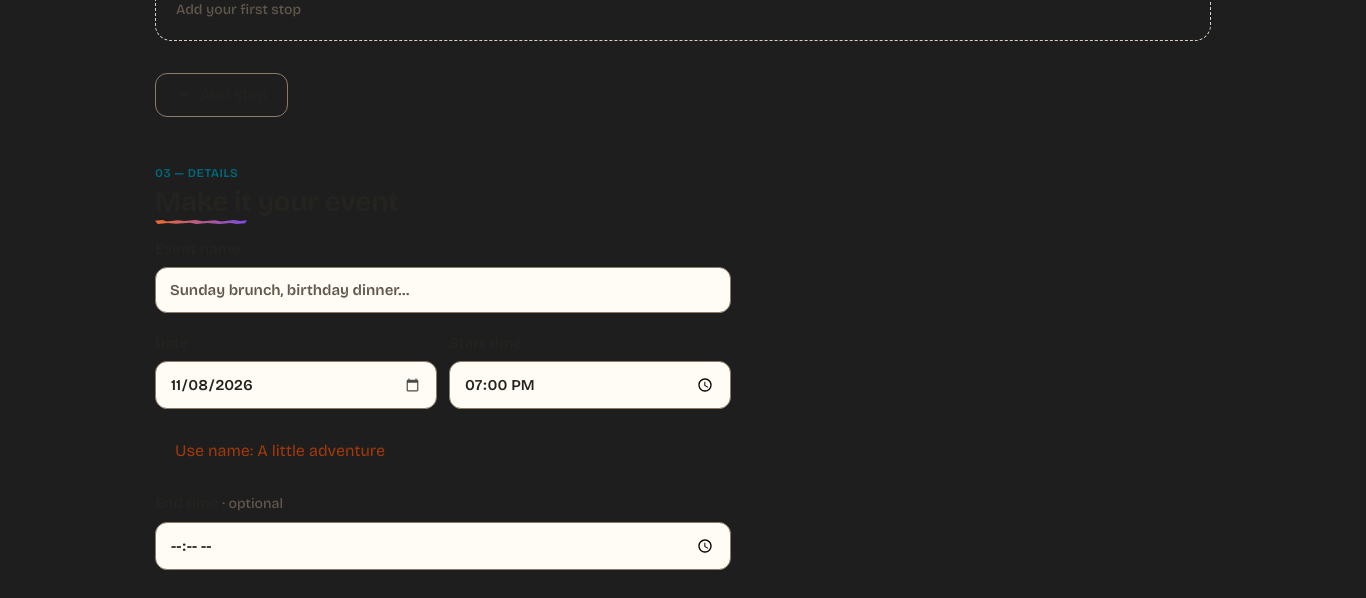
Test: unified planner interactions › does not substitute saved venues when external discovery is unavailable
(page scrolled)
Type "QA night" into the field labelled "Event name" at (443, 290), box [155,267,731,313]
(page scrolled)
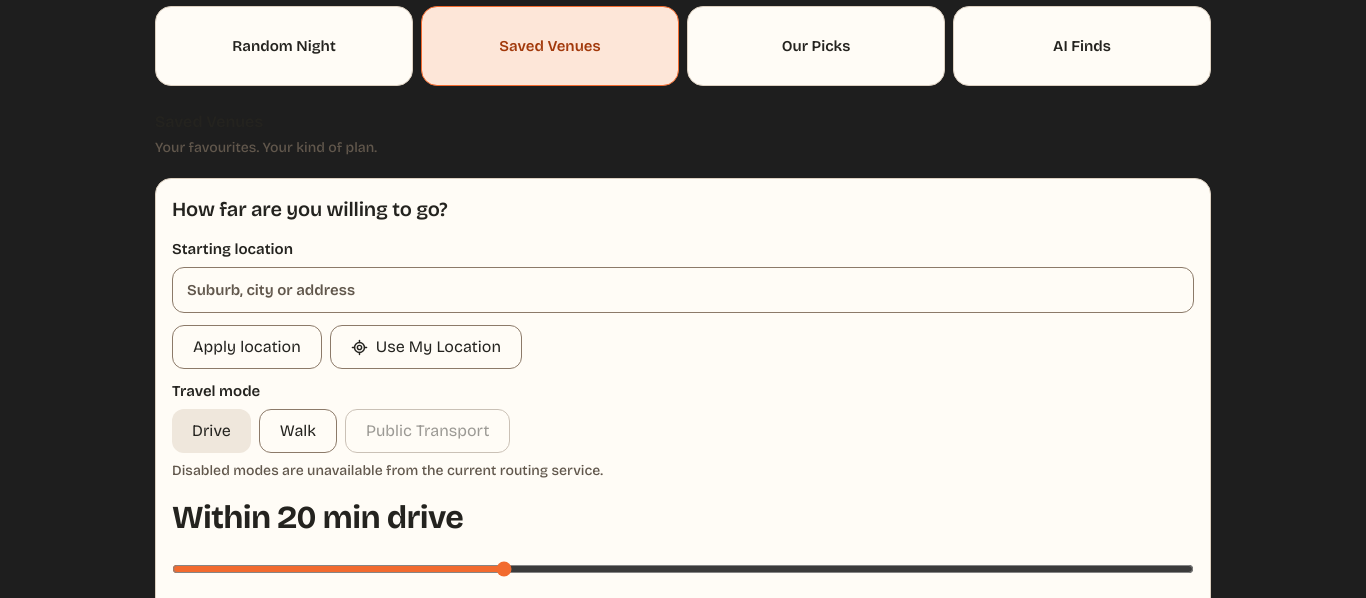
Type "Sydney" into the field labelled "Starting location" at (683, 290), box [172,267,1194,313]
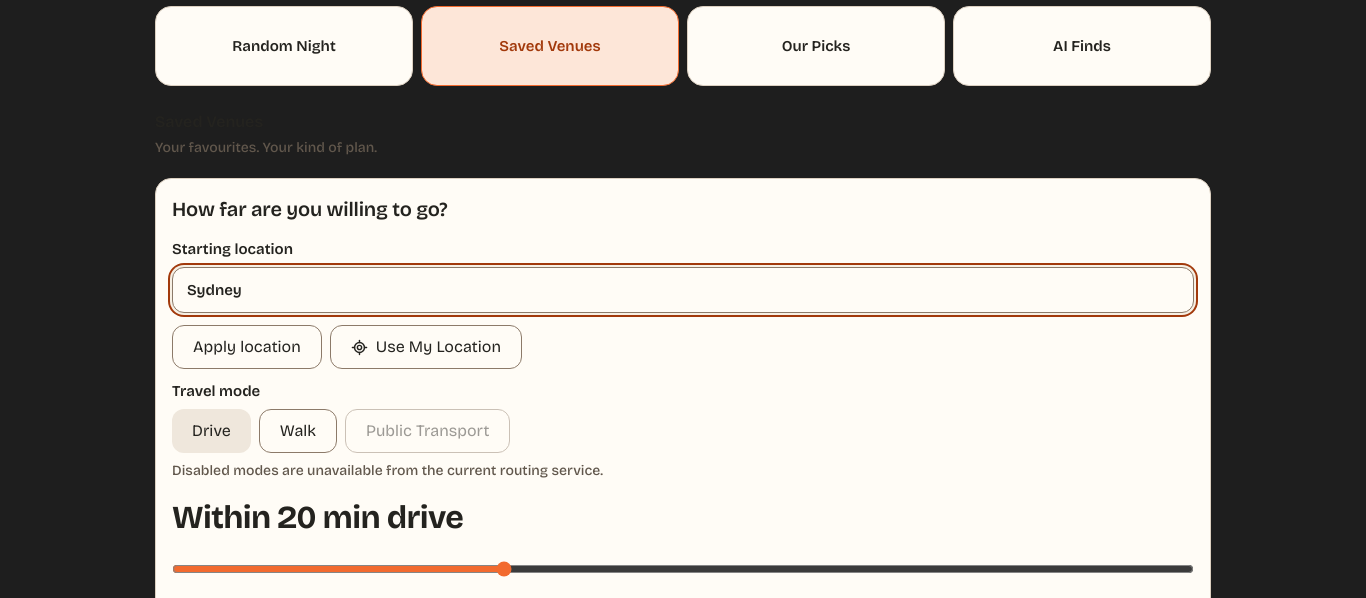
Click the button "Apply location" at (247, 347), box [172,325,322,369]
(page scrolled)
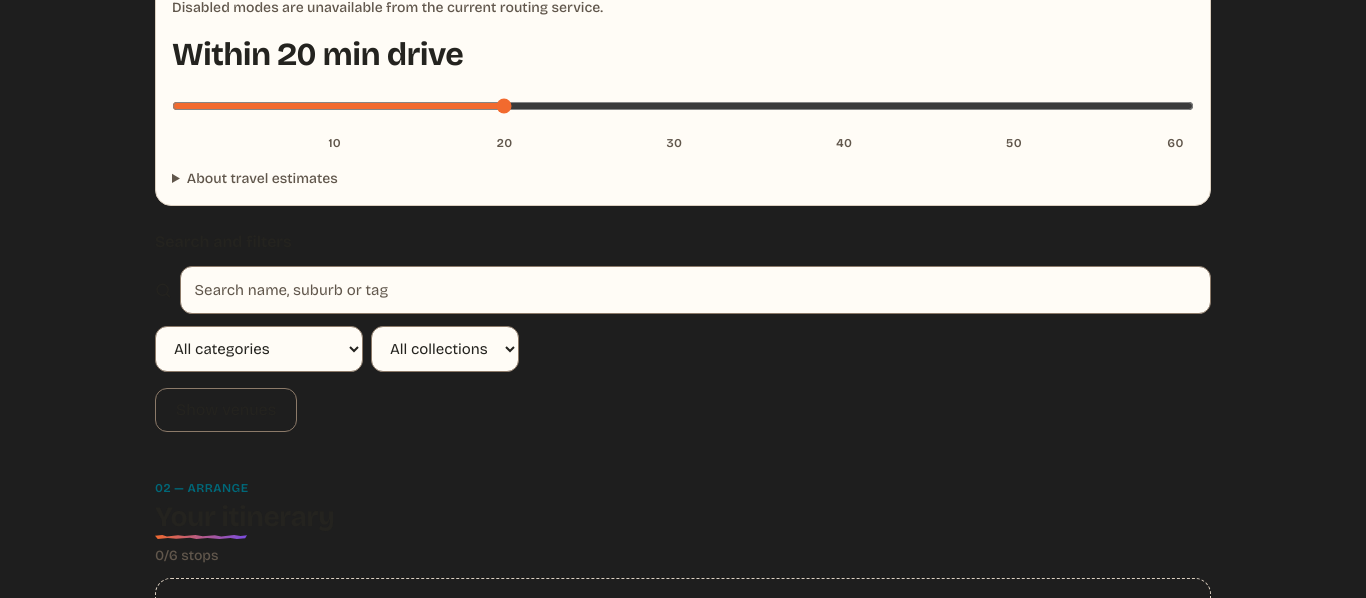
Click the field named "Search venues" at (695, 290), box [180,266,1211,314]
(page scrolled)
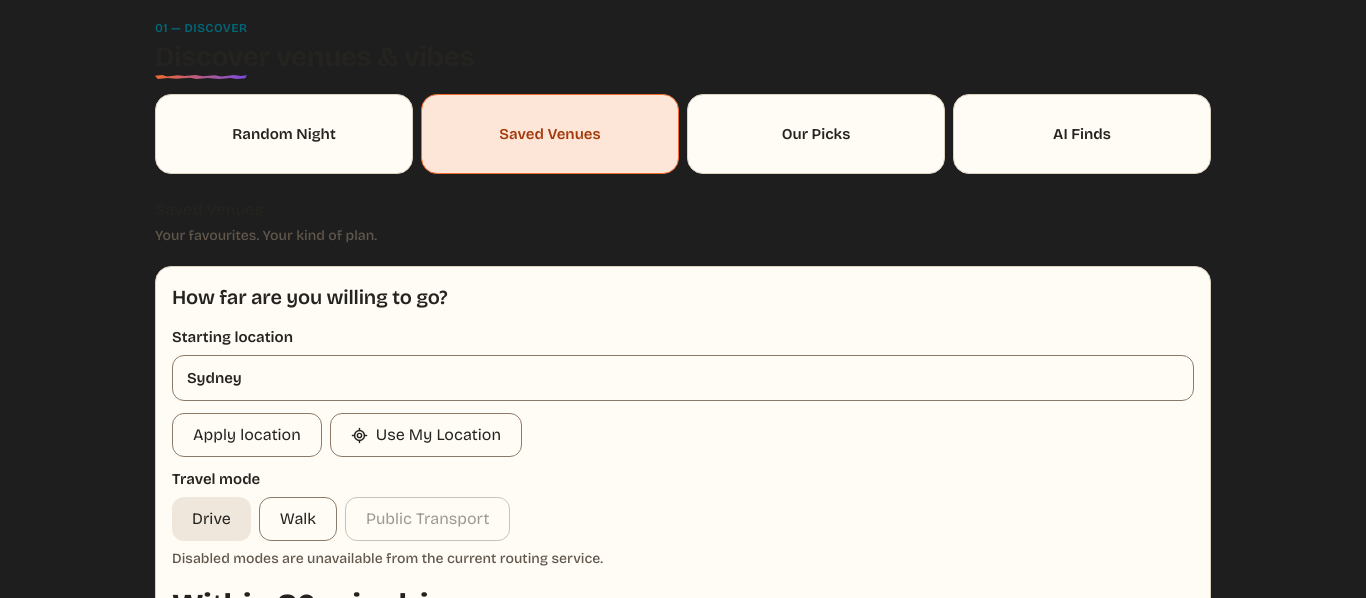
Click the button "AI Finds" at (1082, 134), box [953,94,1211,174]
(page scrolled)
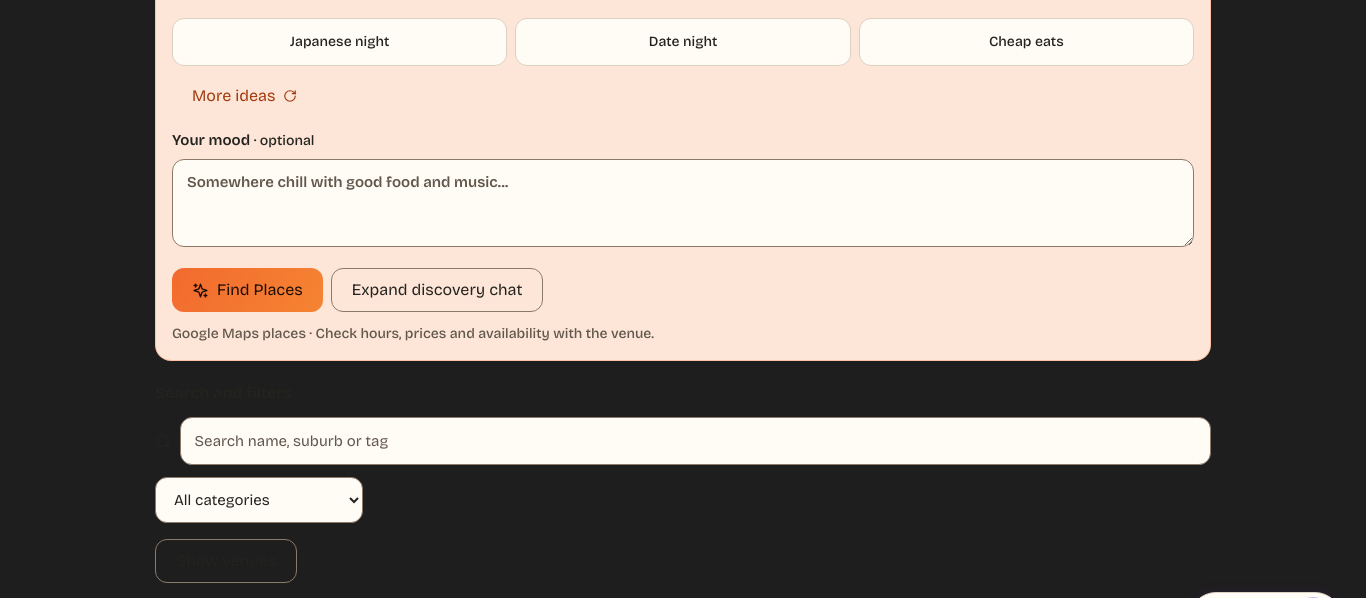
Click the button "Find Places" at (247, 290), box [172,268,323,312]
(page scrolled)
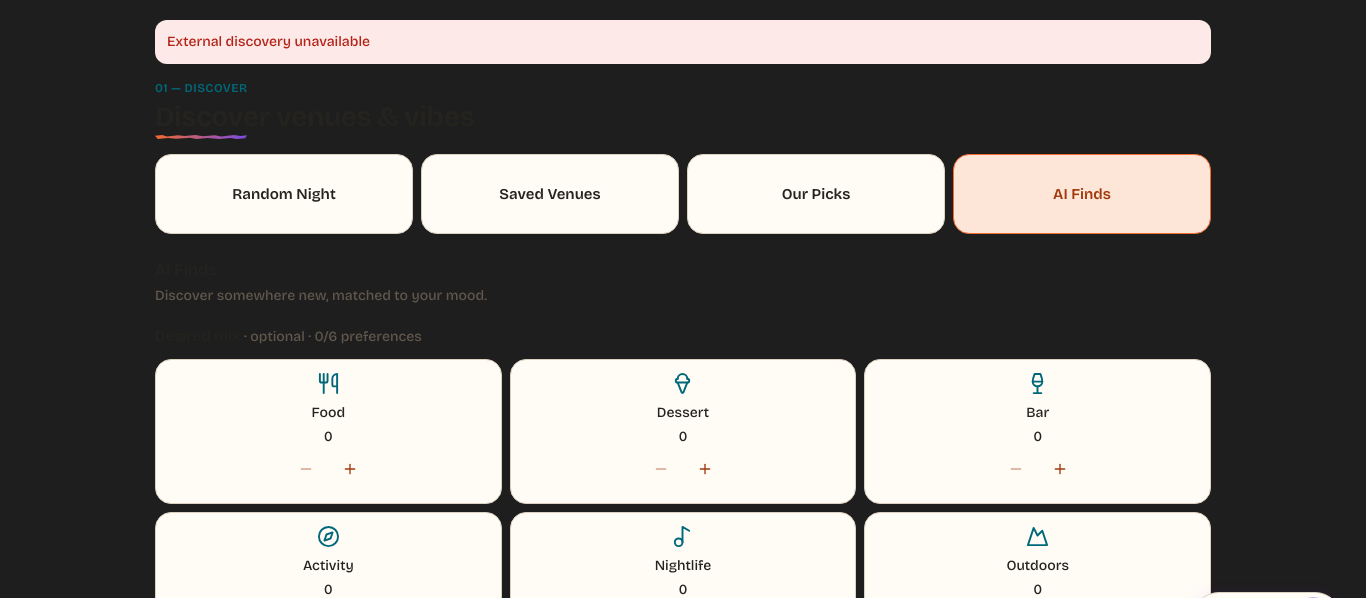
Expected: the message reads "External discovery unavailable", [167,33,370,50]
